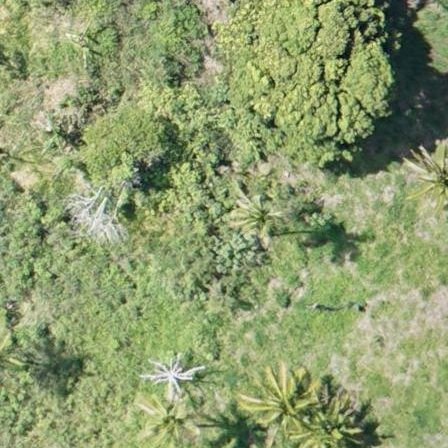palm_tree: (140, 389, 196, 447), (251, 377, 306, 436), (227, 193, 285, 247)
